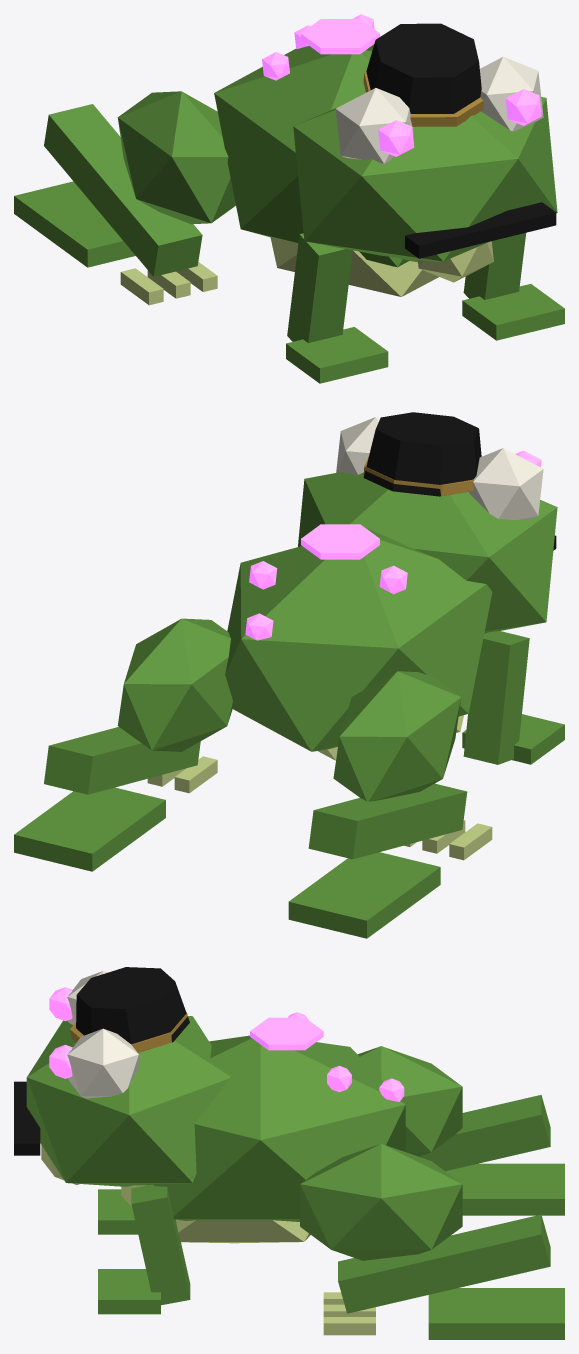
The model's file is frog.glb.
3 renders of one model, top to bottom at view 1: azimuth 30°, elevation 25°; view 2: azimuth 150°, elevation 25°; view 3: azimuth 270°, elevation 25°, orthographic. The views are drawn at different scales.
Parts seen in each view (by area): view 1: Head, Body, Thigh, Calf, Peci, Foot, Arm, Hand, Hand.001, Eye_L, Mouth, Belly (+11 smaller); view 2: Body, Head, Thigh, Thigh.001, Foot, Foot.001, Calf, Peci, Arm, Calf.001, Eye_L, CurseRune (+5 smaller); view 3: Body, Head, Thigh.001, Calf.001, Foot.001, Peci, Thigh, Calf, Foot, Arm.001, Eye_R, Belly (+10 smaller).
Part boxes in pixels (x1=…): Head: x1=293, y1=97, x2=557, y2=262; Body: x1=214, y1=46, x2=409, y2=267; Thigh: x1=117, y1=91, x2=235, y2=224; Calf: x1=44, y1=104, x2=202, y2=276; Peci: x1=366, y1=23, x2=481, y2=113; Foot: x1=14, y1=181, x2=135, y2=267; Arm: x1=287, y1=233, x2=352, y2=342; Hand: x1=286, y1=327, x2=388, y2=383; Hand.001: x1=462, y1=284, x2=564, y2=340; Eye_L: x1=335, y1=88, x2=413, y2=163; Mouth: x1=405, y1=202, x2=556, y2=258; Belly: x1=270, y1=237, x2=438, y2=296; Body: x1=225, y1=529, x2=492, y2=751; Head: x1=298, y1=472, x2=557, y2=633; Thigh: x1=333, y1=671, x2=461, y2=801; Thigh.001: x1=117, y1=618, x2=232, y2=751; Foot: x1=288, y1=852, x2=440, y2=938; Foot.001: x1=14, y1=787, x2=165, y2=871; Calf: x1=308, y1=783, x2=467, y2=859; Peci: x1=363, y1=412, x2=481, y2=496; Arm: x1=463, y1=631, x2=529, y2=764; Calf.001: x1=44, y1=727, x2=200, y2=794; Eye_L: x1=469, y1=448, x2=543, y2=519; CurseRune: x1=301, y1=524, x2=379, y2=559; Body: x1=147, y1=1035, x2=405, y2=1221; Head: x1=26, y1=1016, x2=230, y2=1186; Thigh.001: x1=300, y1=1143, x2=462, y2=1260; Calf.001: x1=338, y1=1214, x2=550, y2=1313; Foot.001: x1=428, y1=1288, x2=564, y2=1339; Peci: x1=76, y1=967, x2=189, y2=1044; Thigh: x1=358, y1=1046, x2=462, y2=1156; Calf: x1=419, y1=1095, x2=550, y2=1171; Foot: x1=445, y1=1163, x2=564, y2=1215; Arm.001: x1=131, y1=1184, x2=190, y2=1305; Eye_R: x1=67, y1=1028, x2=138, y2=1098; Belly: x1=121, y1=1185, x2=310, y2=1243.
Bounding box in the file's own units: 0.72 × 0.5862 × 1.05.
